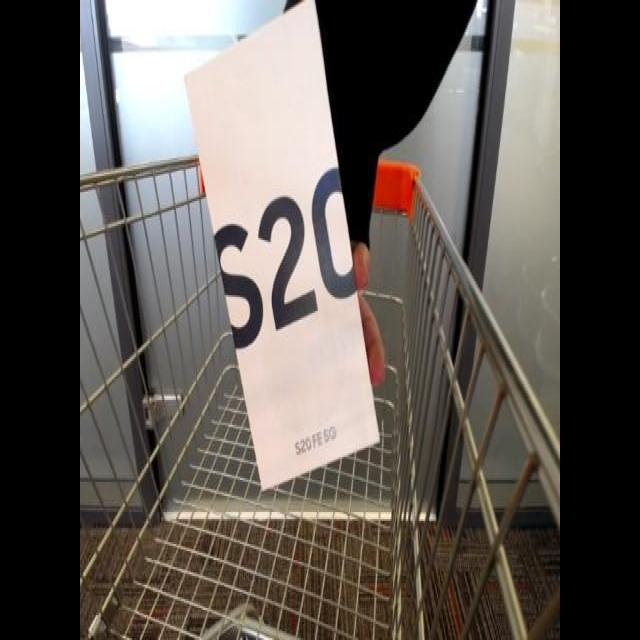Samsung S20: (182, 6, 396, 494)
